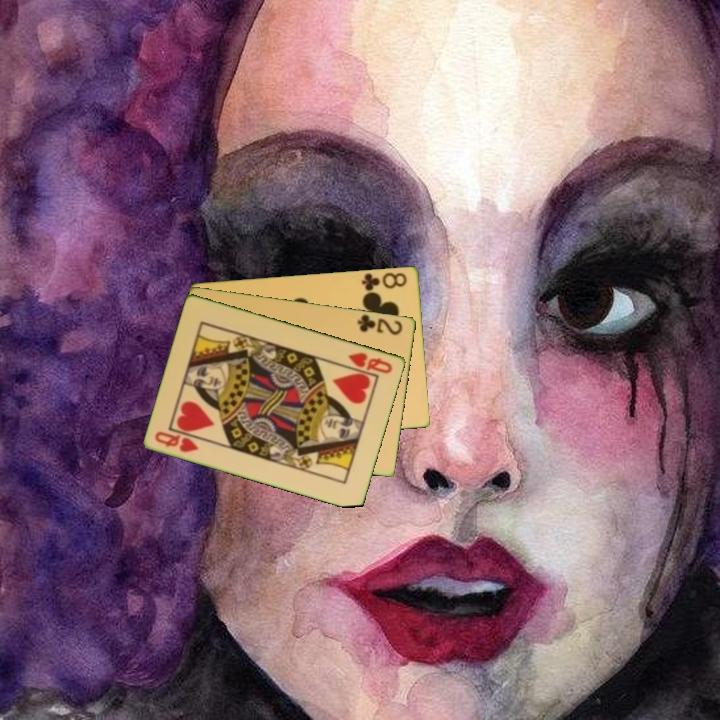2c: (354, 311, 406, 338)
8c: (359, 269, 410, 295)
Qh: (345, 348, 395, 376), (152, 428, 202, 455)
